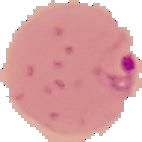parasitized: (14, 10, 129, 127), (97, 39, 140, 94)
